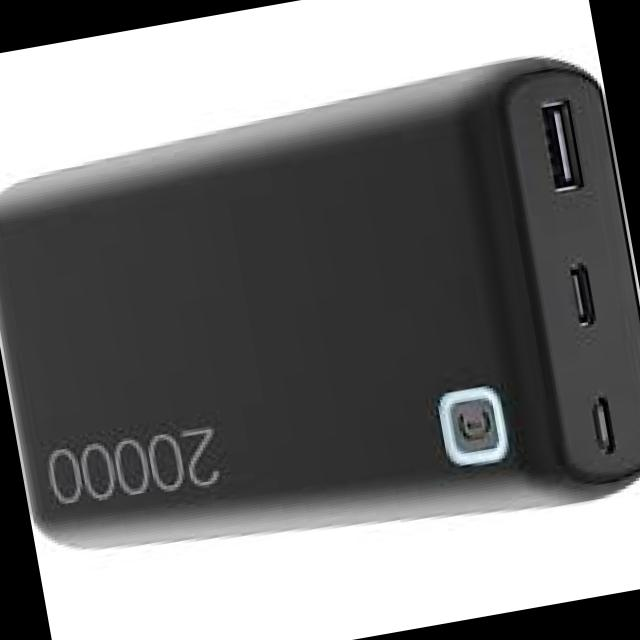power_bank: (0, 42, 640, 604)
